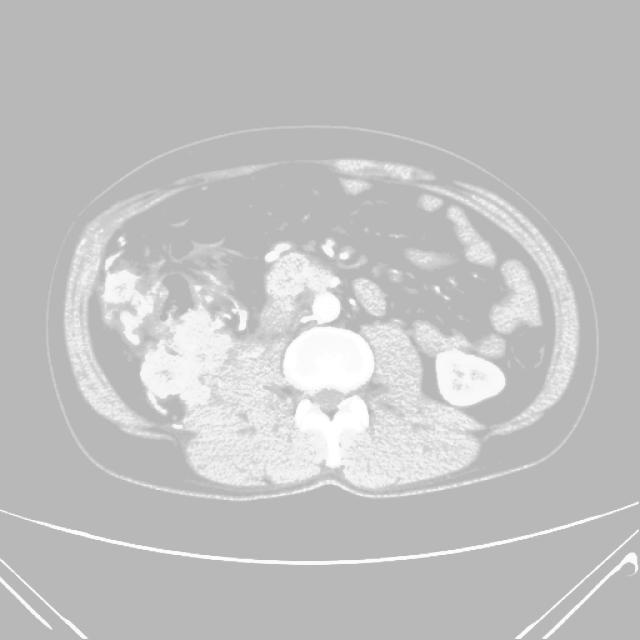TUMOR: (130, 182, 495, 472)
